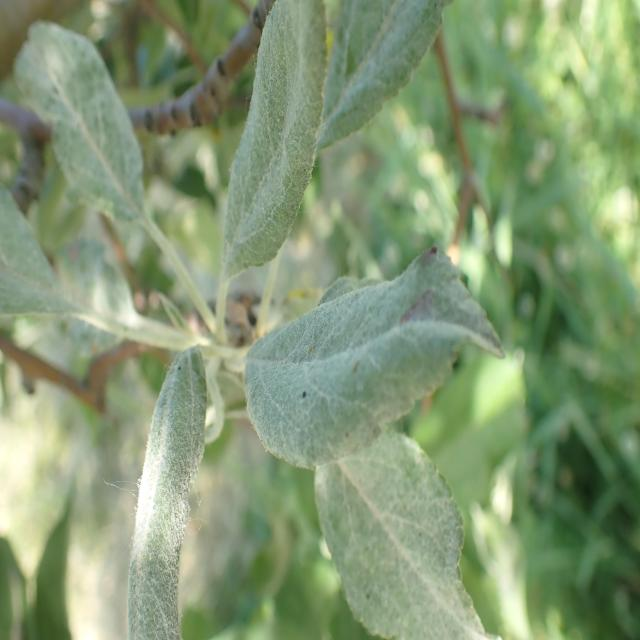Powdery_mildew: (247, 255, 505, 473), (311, 424, 504, 640), (17, 19, 186, 243), (213, 0, 336, 306), (0, 176, 178, 368), (115, 328, 216, 640), (293, 0, 451, 175)
